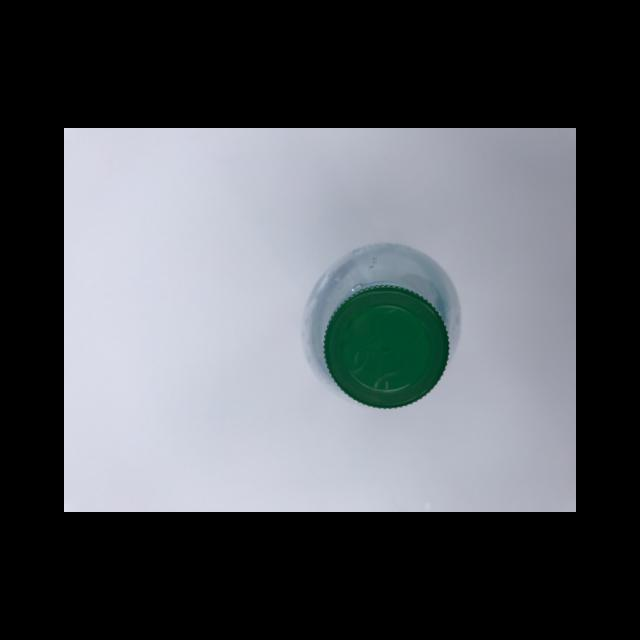plastic: (300, 242, 460, 410), (322, 283, 448, 407)
